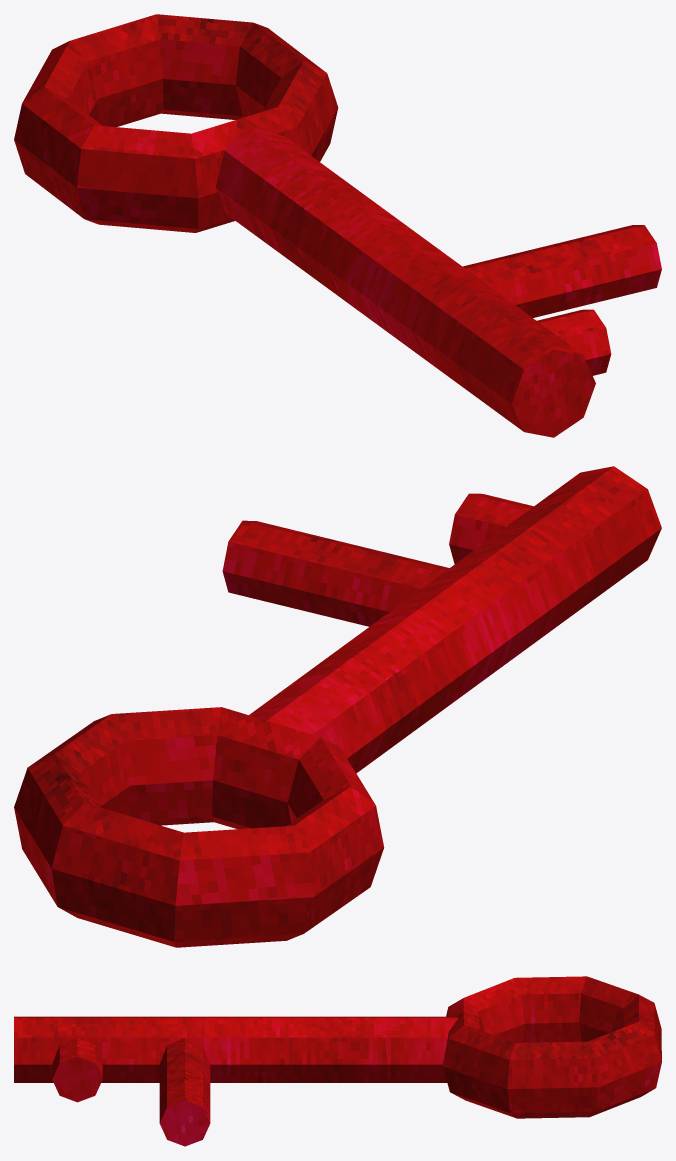
File: red _key.glb
The picture shows the model from 3 angles, top to bottom: view 1: azimuth 30°, elevation 25°; view 2: azimuth 150°, elevation 25°; view 3: azimuth 270°, elevation 25°; orthographic projection. The views are drawn at different scales.
Parts seen in each view (by area): view 1: Torus; view 2: Torus; view 3: Torus.
Part boxes in pixels (x1,y1,x2,y2): Torus: (14,14,661,437); Torus: (14,466,661,947); Torus: (14,976,661,1146).
Size of the model in its own units: 0.9882 by 0.3164 by 2.21.
1 material, 1 textured.
